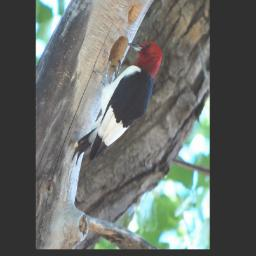Woodpecker: (68, 40, 161, 166)
